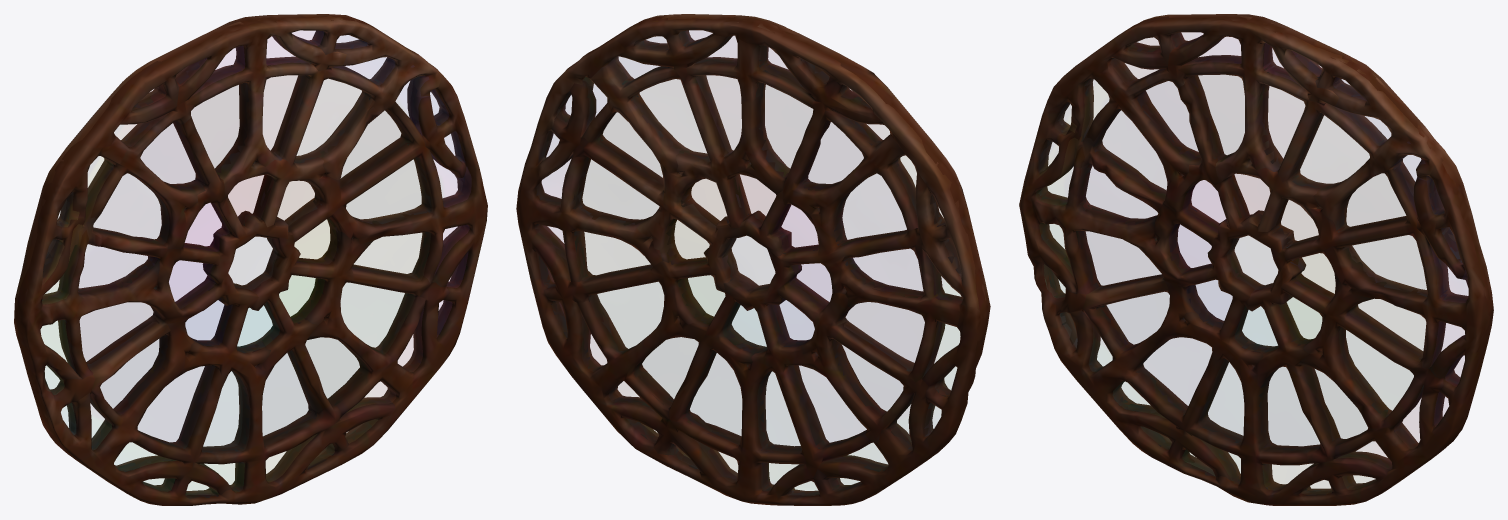
3 renders of one model, left to right at view 1: azimuth 30°, elevation 25°; view 2: azimuth 150°, elevation 25°; view 3: azimuth 330°, elevation 25°, orthographic.
Visible parts, largest first — view 1: karm2, glass1; view 2: karm2, glass1; view 3: karm2, glass1.
Boxes of the visible parts, x1,y1,x2,y2 form: karm2: (14, 14, 487, 505); glass1: (41, 31, 462, 494); karm2: (516, 14, 990, 505); glass1: (541, 31, 960, 495); karm2: (1019, 14, 1493, 505); glass1: (1045, 33, 1467, 490).
Size of the model in its own units: 62.04 by 61.3 by 4.32.
2 materials, 2 textured.
